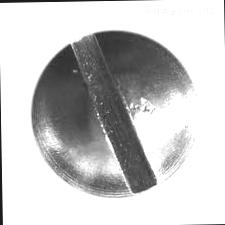slotted: (30, 28, 198, 198)
